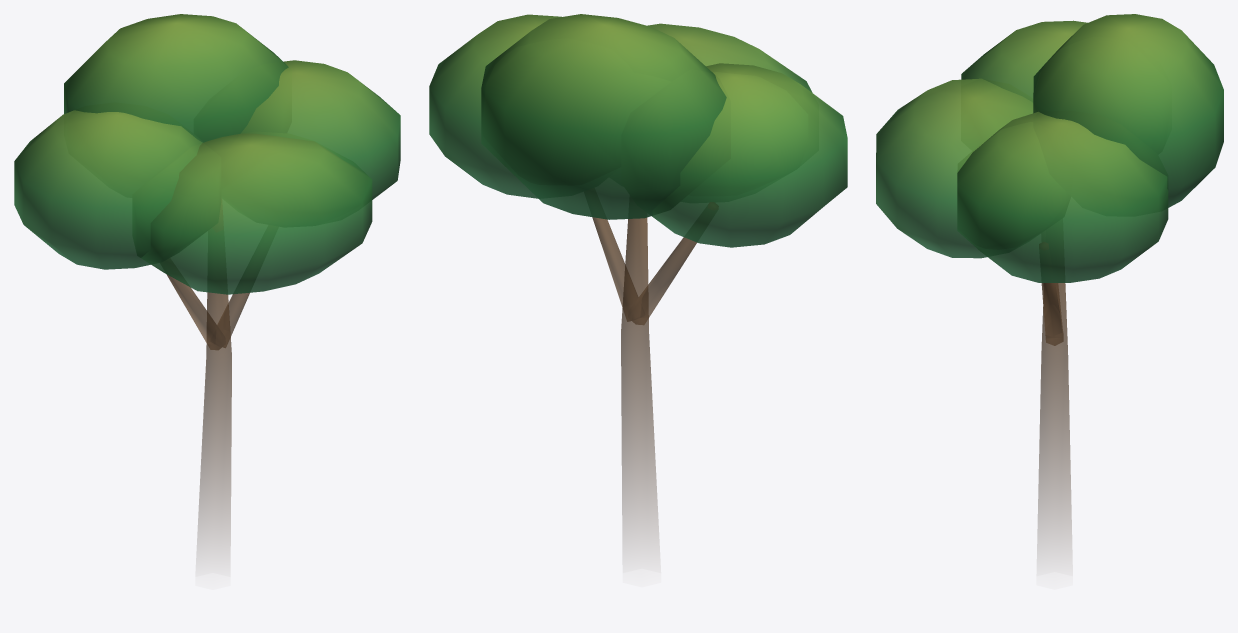
The model's file is tree_leaf_2.glb.
The picture shows the model from 3 angles, left to right: view 1: azimuth 30°, elevation 25°; view 2: azimuth 150°, elevation 25°; view 3: azimuth 270°, elevation 25°; orthographic projection. The views are drawn at different scales.
Visible parts, largest first — view 1: tree_leaf_2; view 2: tree_leaf_2; view 3: tree_leaf_2.
Boxes of the visible parts, x1=… form: tree_leaf_2: x1=14, y1=14, x2=400, y2=554; tree_leaf_2: x1=429, y1=14, x2=847, y2=548; tree_leaf_2: x1=876, y1=14, x2=1223, y2=553.
Bounding box in the file's own units: 5.79 × 8.67 × 4.75.
